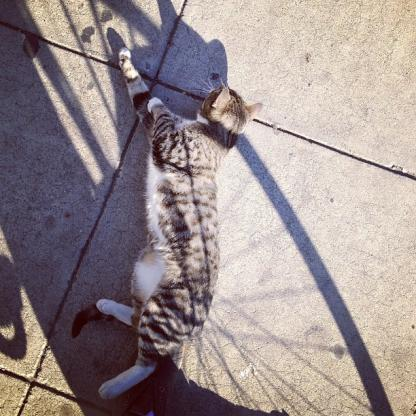Target: (94, 47, 266, 407)
